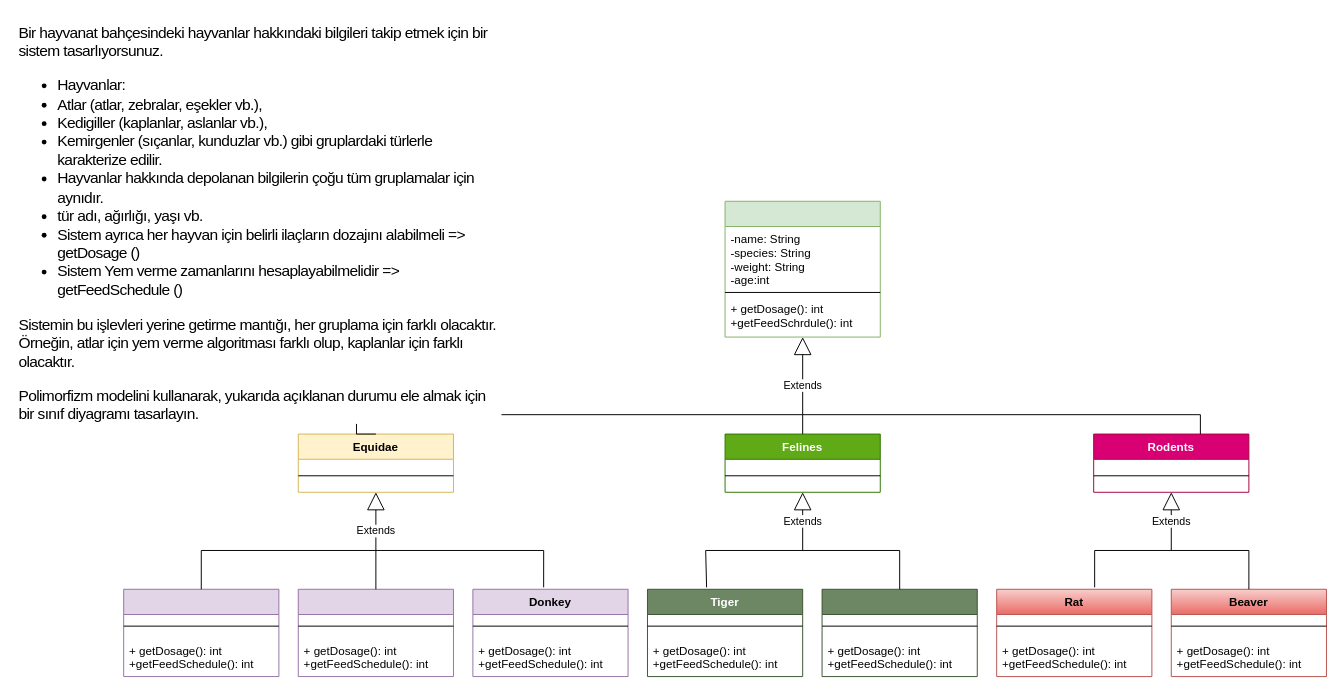
Some shapes in this 1343 by 695 pixel diagram are drawn without their labels. The shapes that lost their labels are listed below. From the top down, each one's box as (x1, y1, x2, y2) in pixels, then its label:
(724, 200, 880, 337): Animals
(123, 588, 279, 677): Horse
(297, 588, 453, 677): Zebra
(821, 588, 977, 677): Lion
